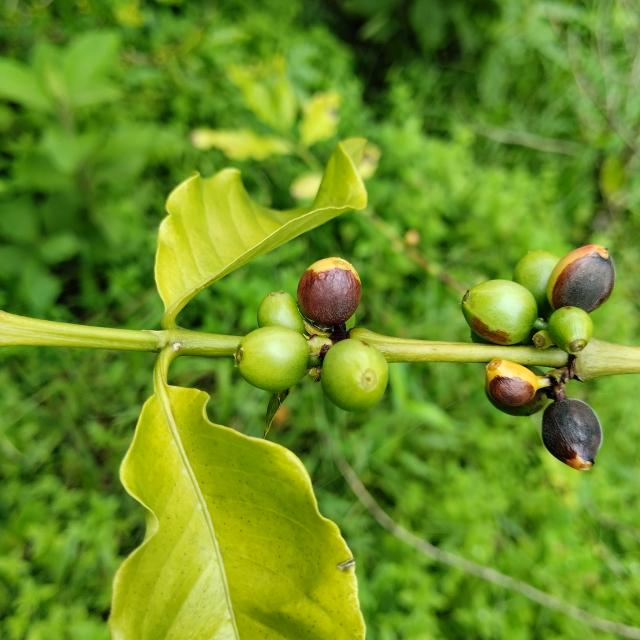green: (234, 326, 310, 392), (462, 280, 539, 345), (321, 339, 389, 412), (513, 250, 561, 318), (548, 306, 594, 354), (257, 291, 305, 334)
red: (548, 244, 616, 313), (297, 257, 362, 327), (543, 398, 604, 471), (487, 359, 552, 407)
